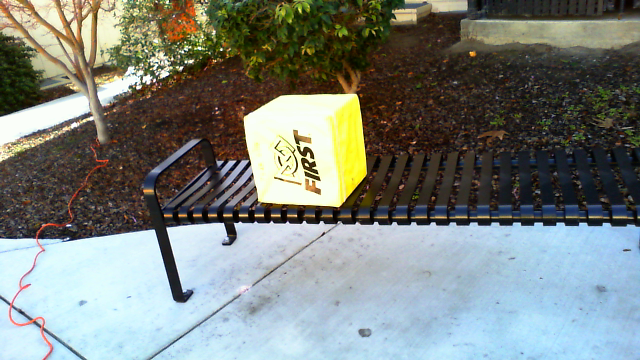cube: (242, 95, 367, 208)
